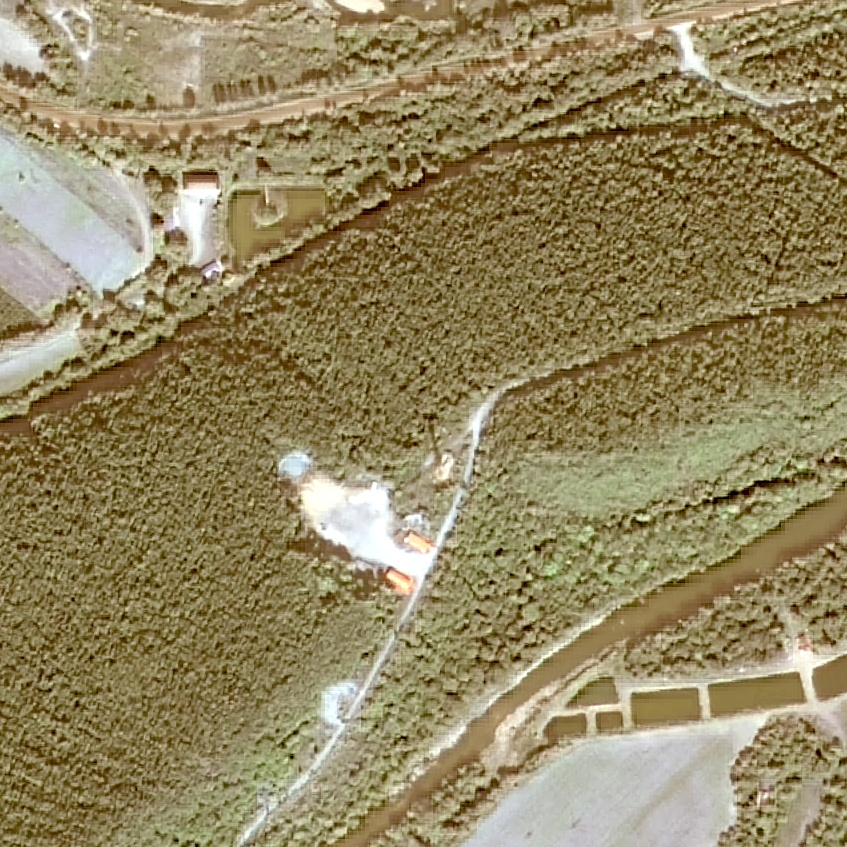slope: (273, 436, 421, 585), (666, 19, 755, 102), (311, 677, 361, 731)
